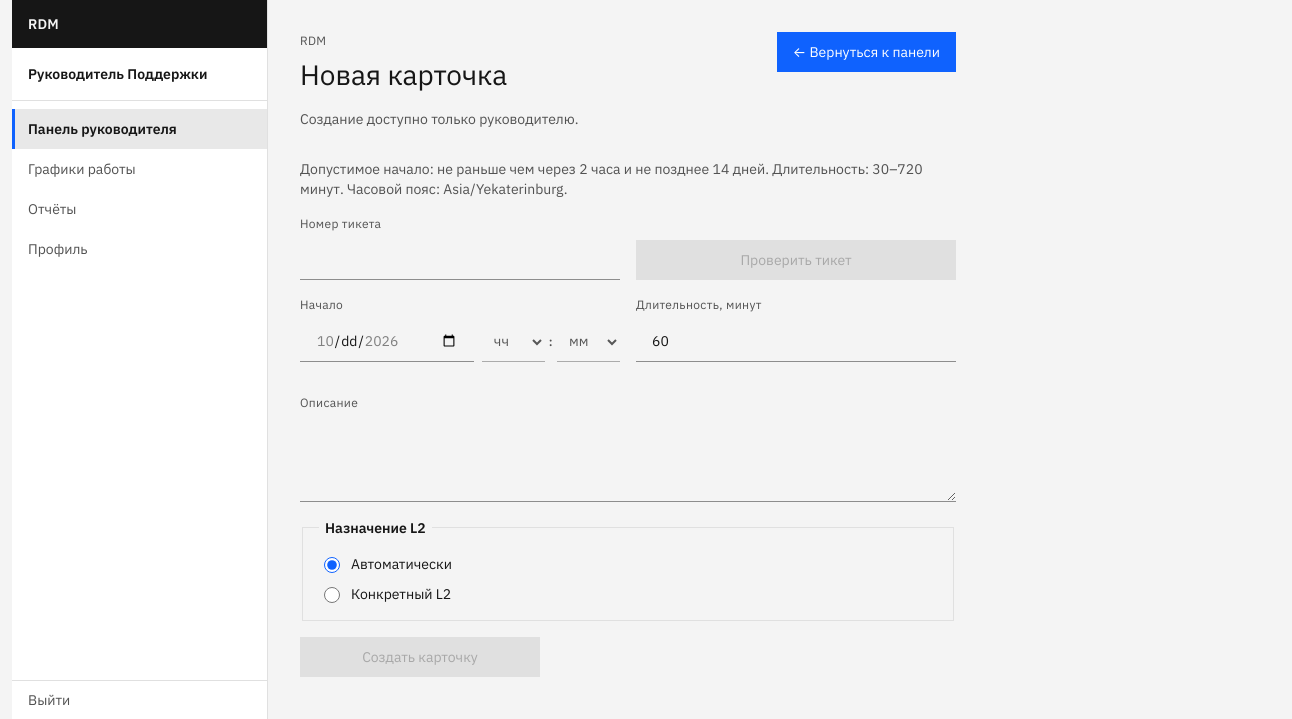
App manager create view › handles concurrent preflight requests correctly
Request 1: T-1001 (slow)
Type "T-1001" into the field labelled "Номер тикета" at (460, 260), box [300,240,620,280]
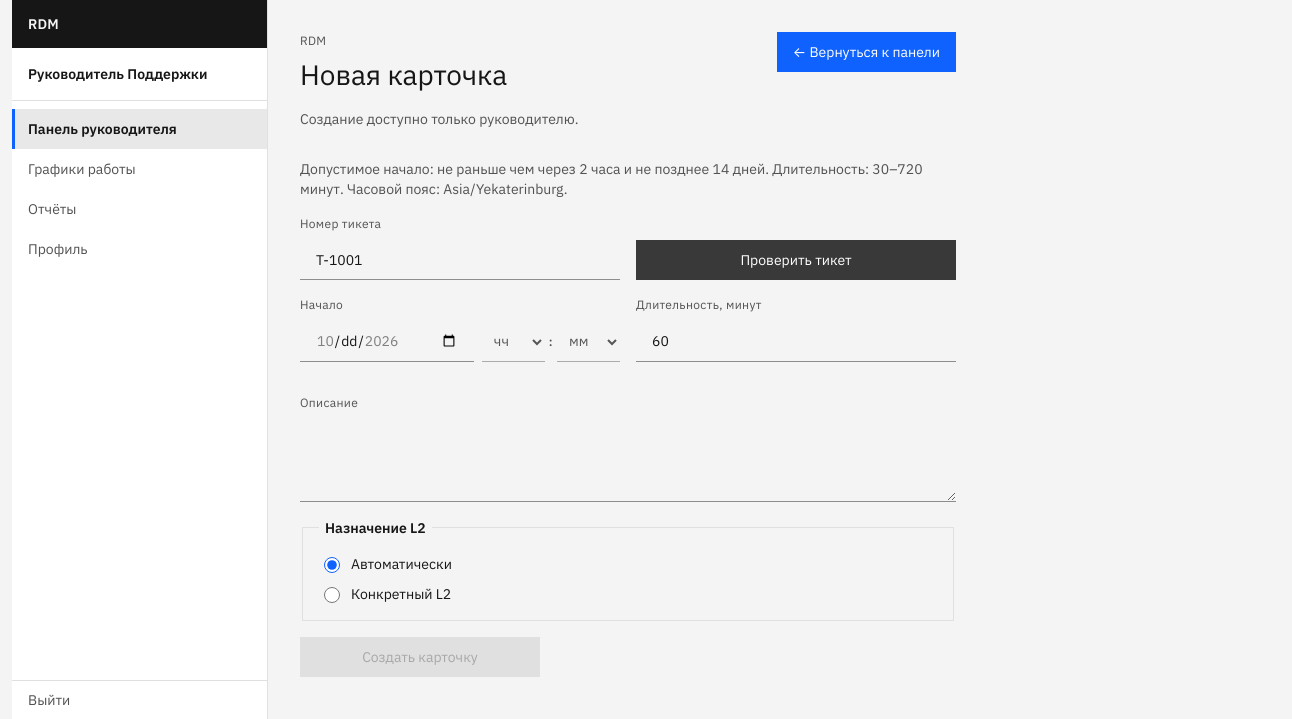
Click the button with class "secondary" at (796, 260), box [636,240,956,280]
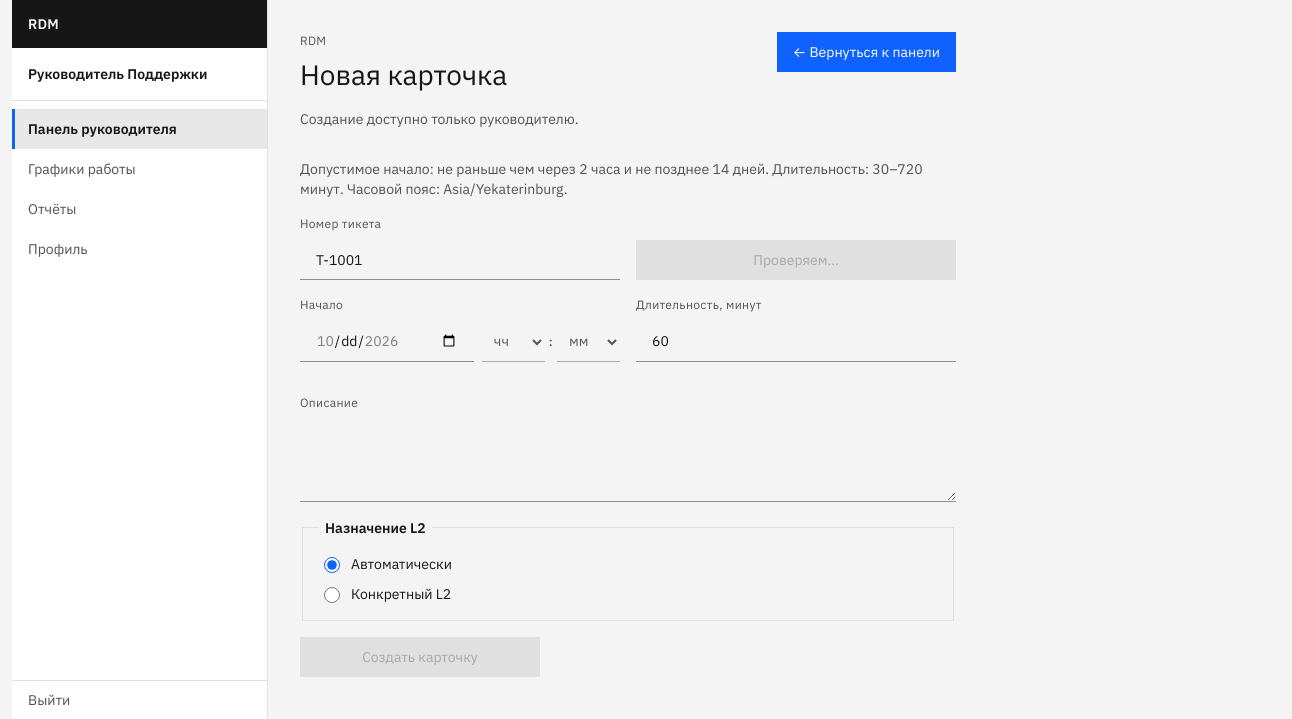
Request 2: T-1002 (fast)
Replace the text in the field labelled "Номер тикета" with "T-1002" at (460, 260), box [300,240,620,280]
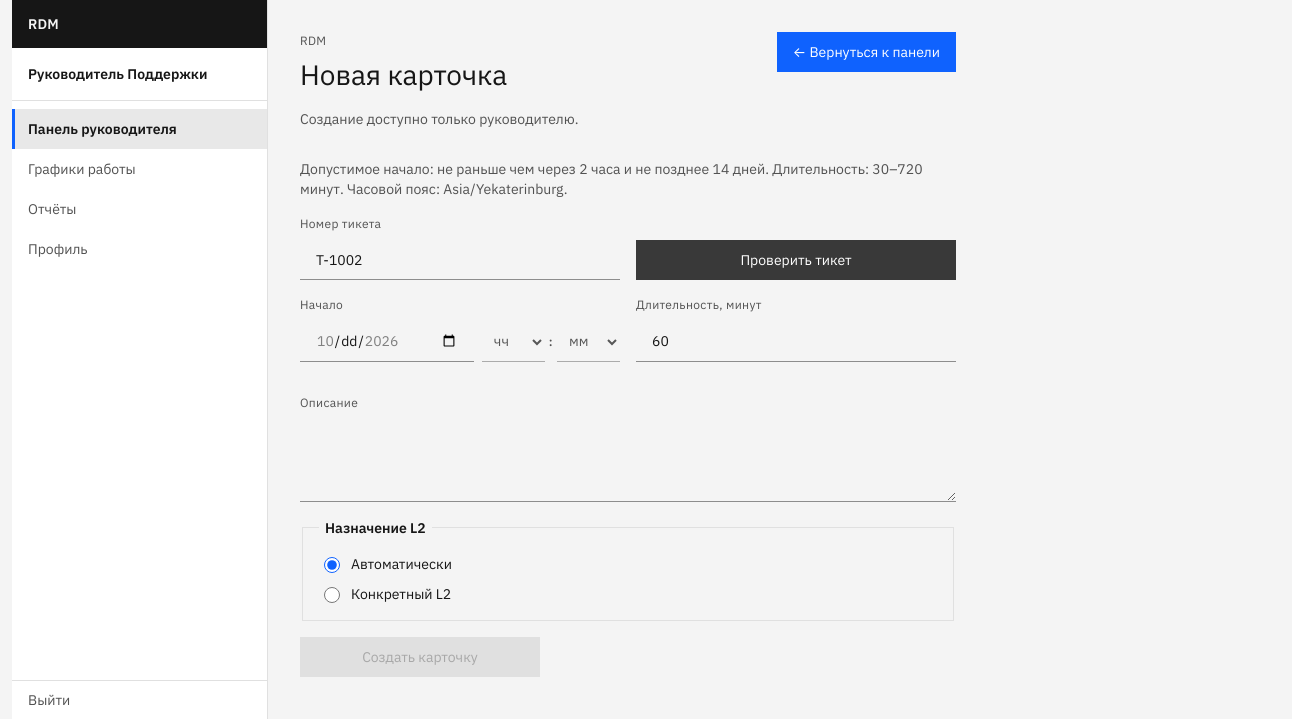
Click the button with class "secondary" at (796, 260), box [636,240,956,280]
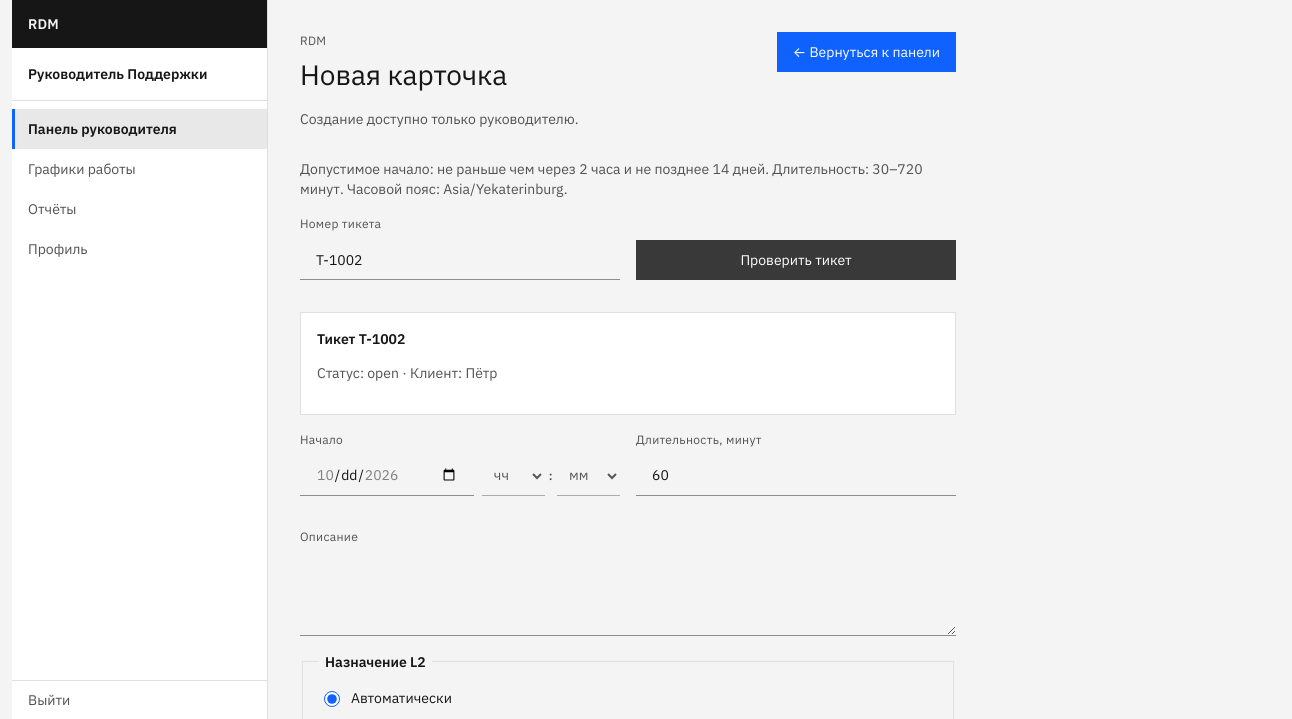
Expected: the text "Тикет T-1002" is shown, [317,330,405,348]
